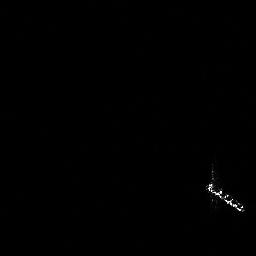ship: (206, 164, 247, 219)
